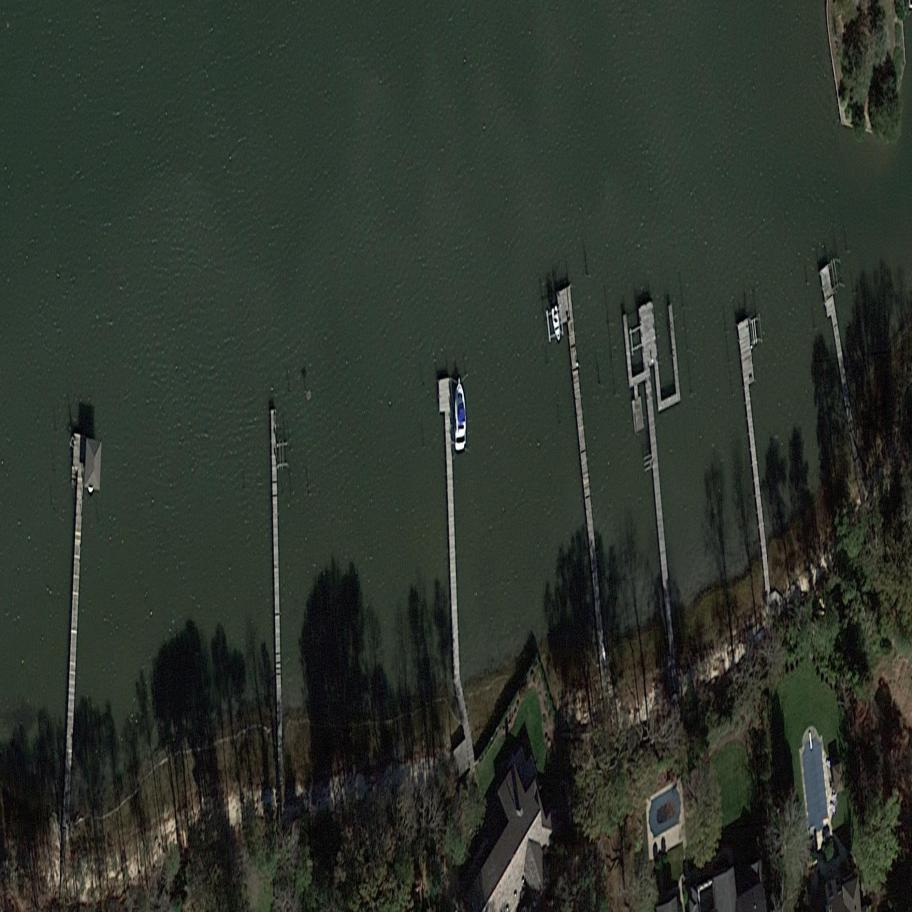ship: (452, 374, 467, 458), (550, 302, 563, 347)
